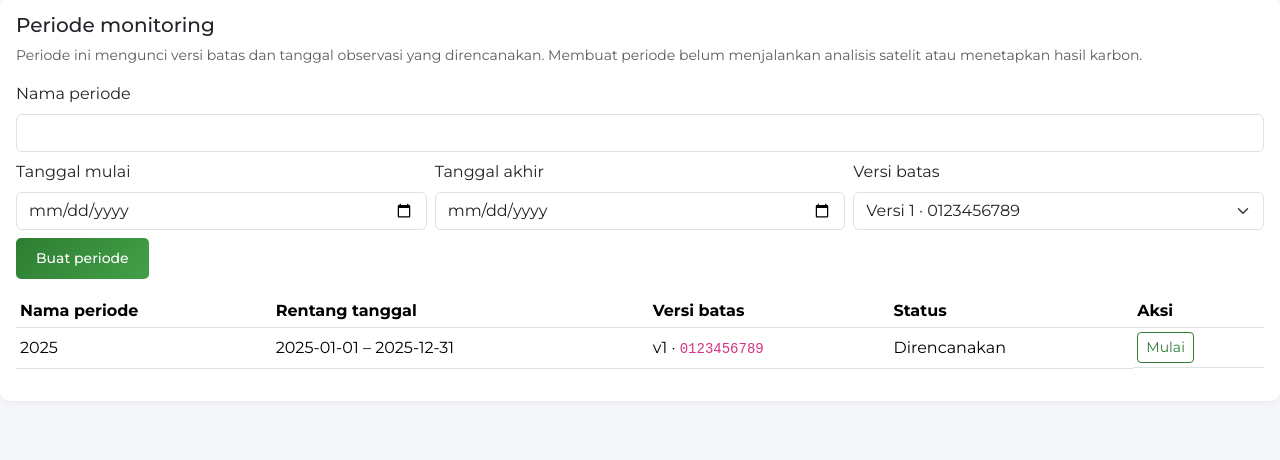
Test case: MonitoringPeriodPanel › creates a planned period against a selected boundary and displays its lifecycle
Expected: the text "2025" is shown, [16,328,272,368]
In the field labelled "Nama periode": (640, 133) [16,114,1264,152], type "2026"
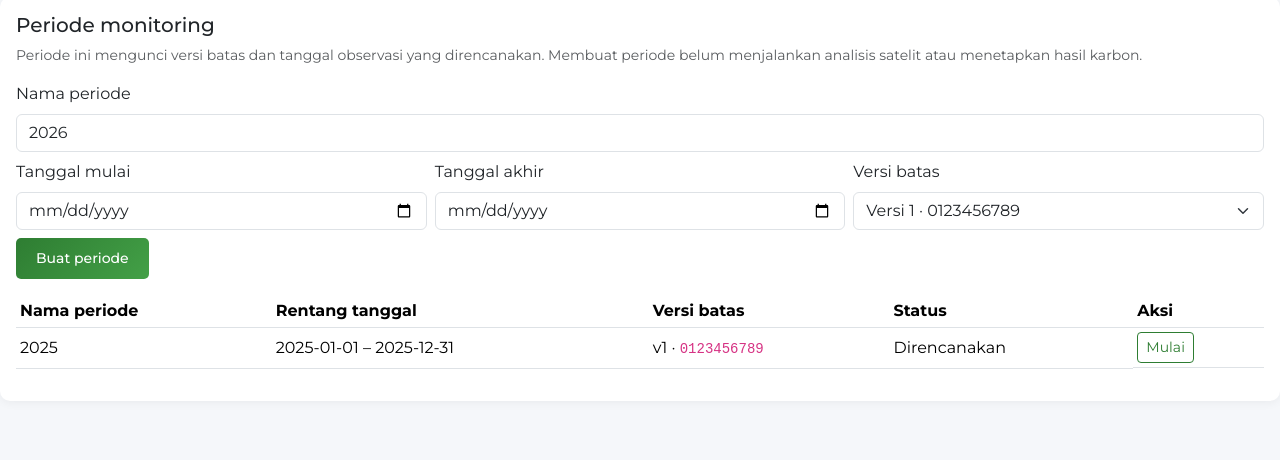
In the date field labelled "Tanggal mulai": (221, 211) [16,192,427,230], type "2026-01-01"
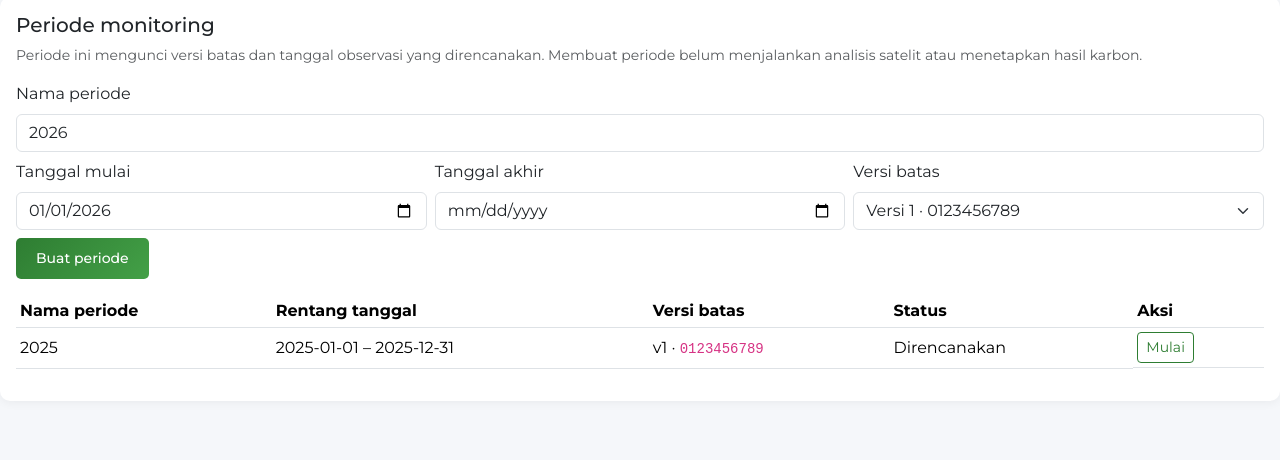
In the date field labelled "Tanggal akhir": (640, 211) [435,192,845,230], type "2026-12-31"
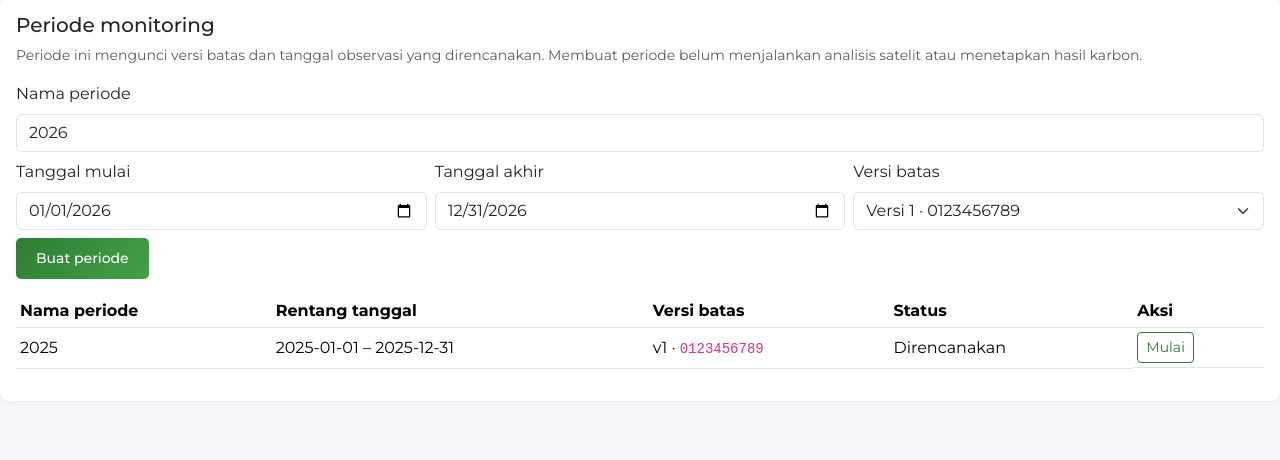
Click the button "Buat periode": (82, 258) [16,238,149,279]
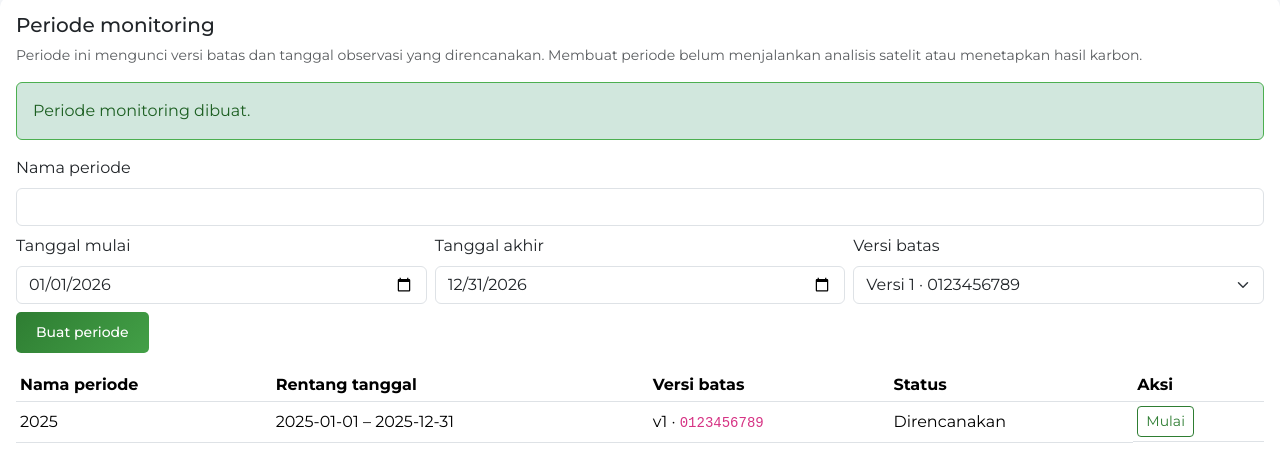
Click the button "Mulai": (1166, 422) [1137,406,1194,437]
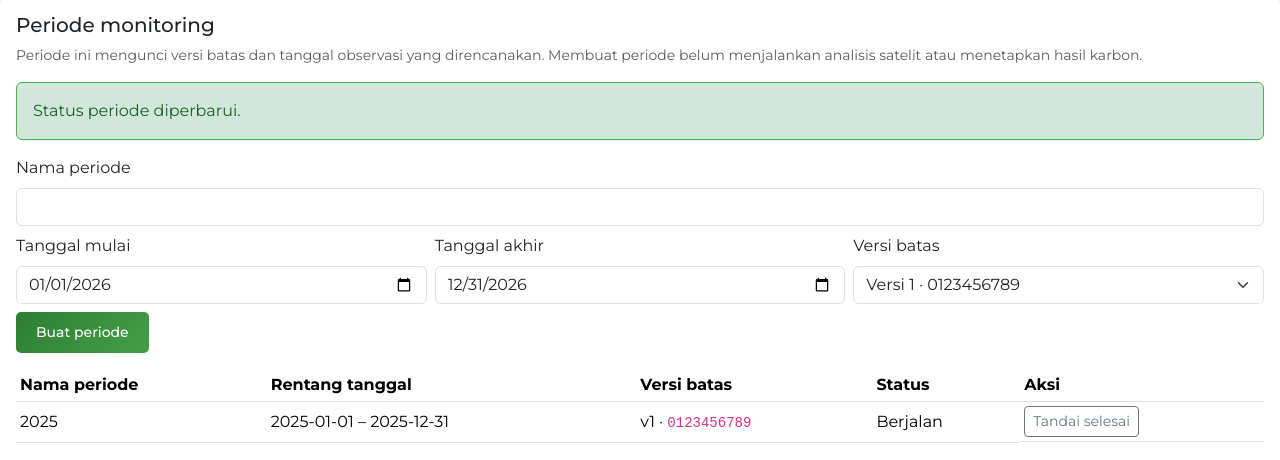
Expected: the text "Berjalan" is shown, [872,402,1020,442]
